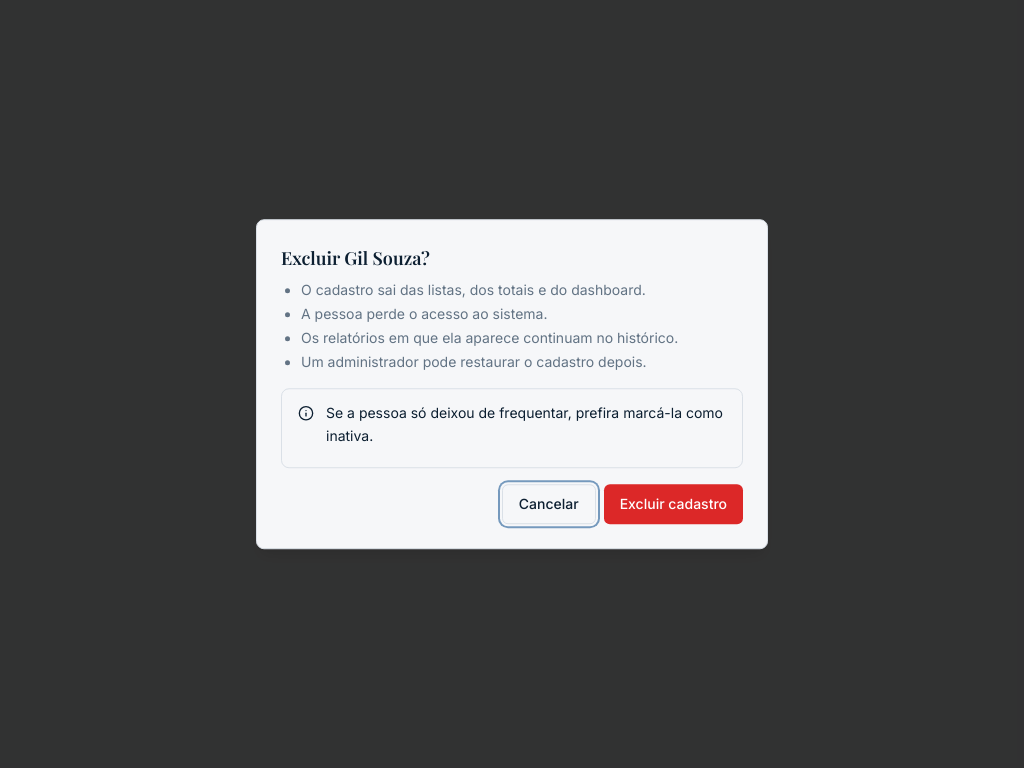
Scenario: MemberDeletionFlow: recusas do servidor (UX-11) › RN-04 na corrida: a pré-checagem liberou, mas o servidor recusa com ligações; o diálogo troca para o bloqueio com as listas do critério
Step 1. Click the button "Excluir cadastro" → x=673, y=504, box left=604, top=484, right=743, bottom=524
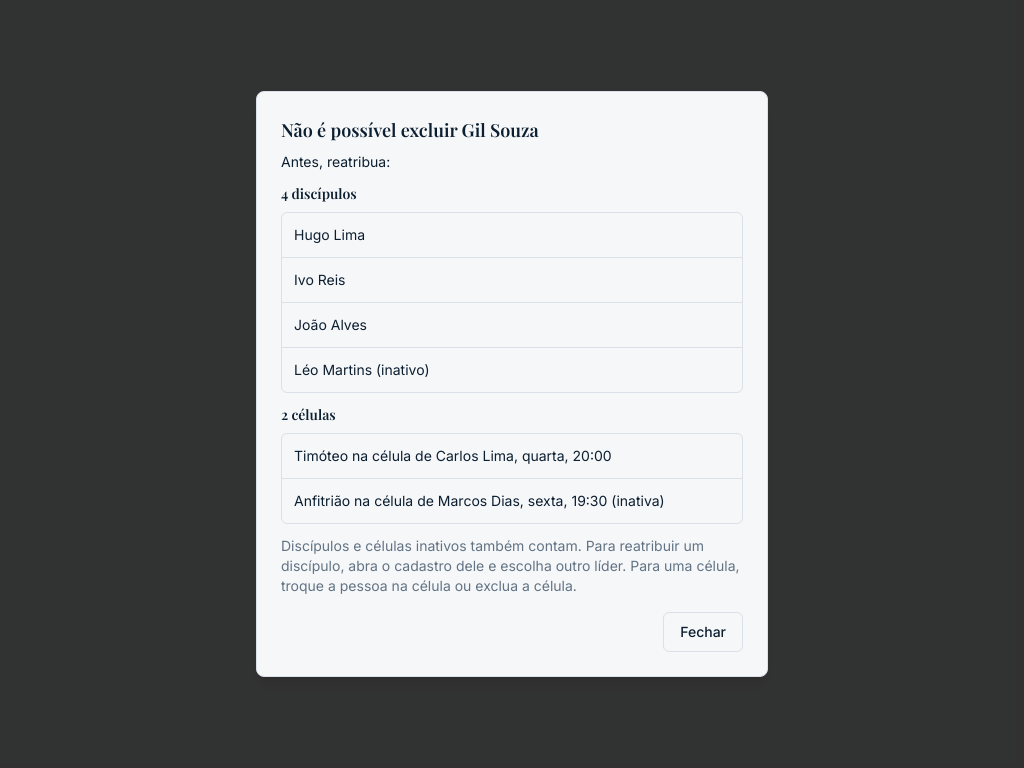
Expected: the dialog shows "Antes, reatribua:", left=281, top=153, right=390, bottom=170
Expected: the heading "4 discípulos" is shown, left=281, top=184, right=357, bottom=203
Expected: the heading "2 células" is shown, left=281, top=405, right=336, bottom=424
